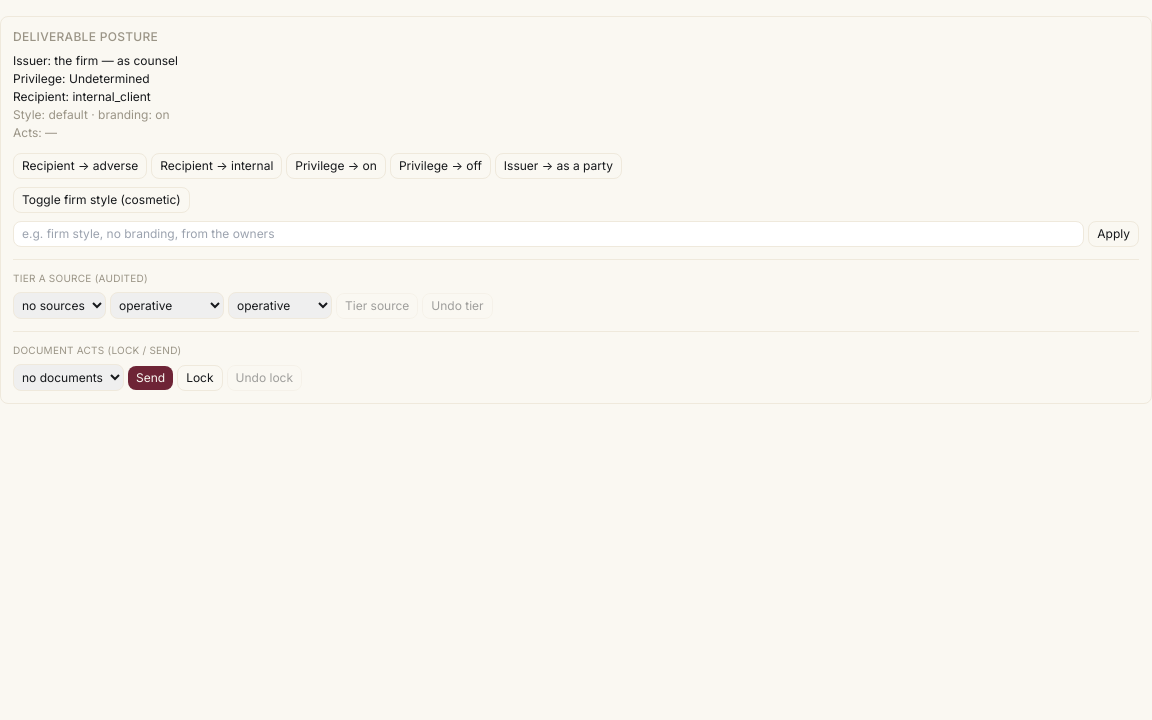
Test case: ChatDeliverable — cosmetic / posture / send › changing recipient surfaces a confirm and applies on confirm
Step 1. Click the button with test id "ctl-recipient-adverse" → [80, 166], box [13,153,147,179]
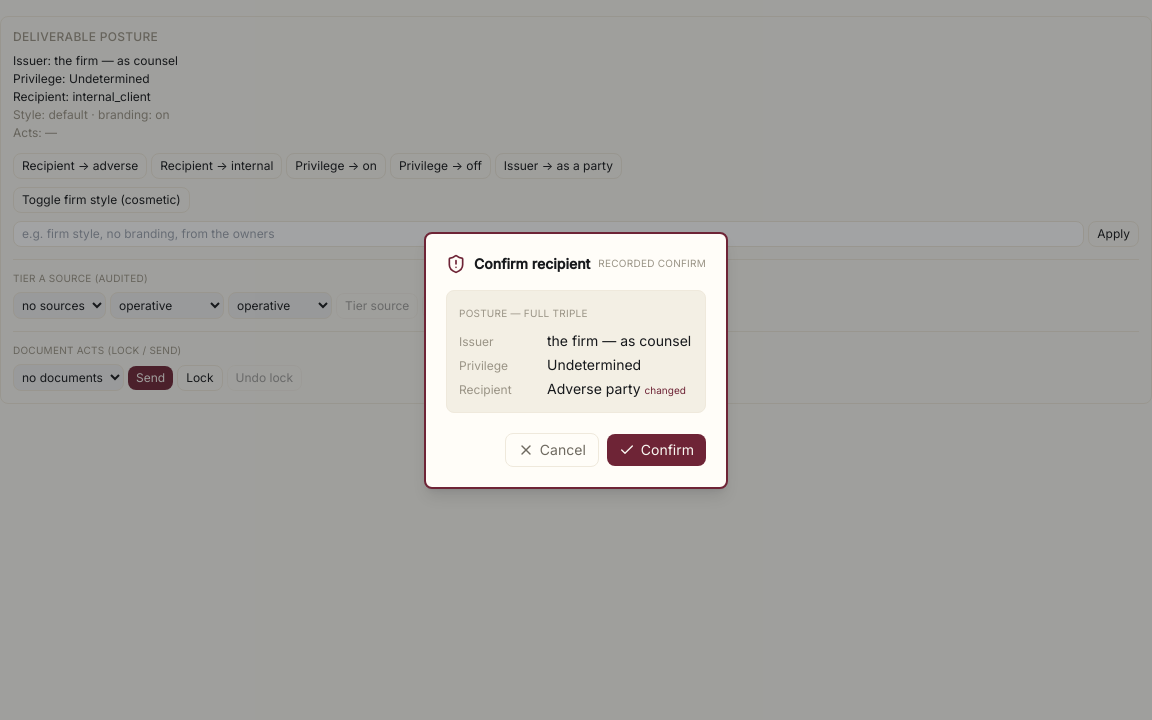
Result: the element with test id "confirm-overlay" is shown
Step 2. Click the button with test id "confirm-accept" → [656, 450], box [607,434,706,466]
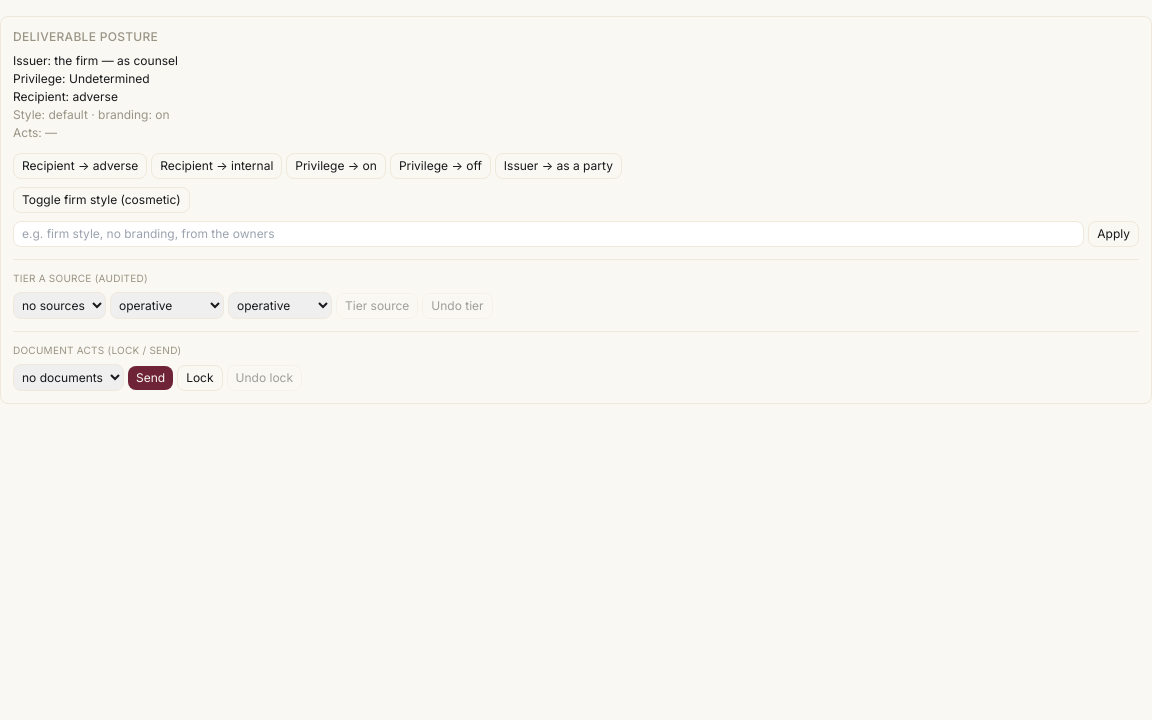
Result: the text with test id "dt-recipient" shows "adverse" at [72,89,118,104]
